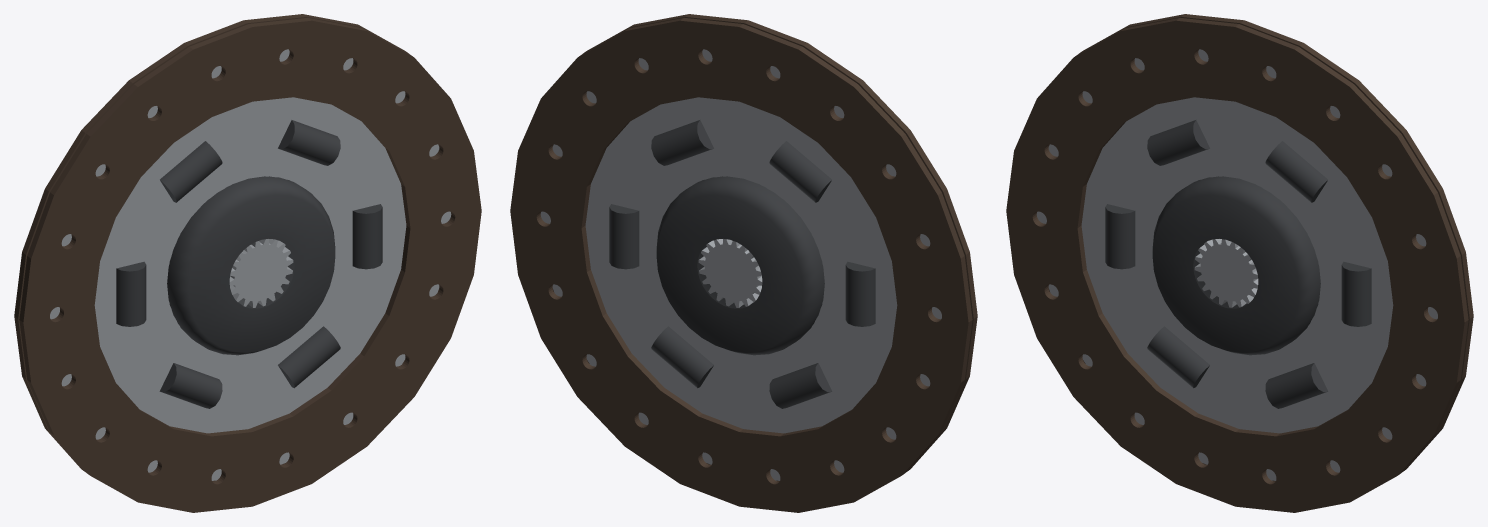
Rendered from clutch-disc.glb.
3 views of the same model, side by side, from view 1: azimuth 30°, elevation 25°; view 2: azimuth 150°, elevation 25°; view 3: azimuth 330°, elevation 25° (orthographic).
Visible parts, largest first — view 1: clutch-disc:friction, clutch-disc:steel, clutch-disc:darkSteel; view 2: clutch-disc:friction, clutch-disc:steel, clutch-disc:darkSteel; view 3: clutch-disc:friction, clutch-disc:steel, clutch-disc:darkSteel.
Boxes of the visible parts, box(x1,y1,x2,y2) form: clutch-disc:friction: box(14, 14, 481, 512); clutch-disc:steel: box(50, 49, 451, 480); clutch-disc:darkSteel: box(116, 120, 382, 408); clutch-disc:friction: box(510, 14, 977, 512); clutch-disc:steel: box(540, 49, 941, 480); clutch-disc:darkSteel: box(609, 120, 875, 408); clutch-disc:friction: box(1006, 14, 1473, 512); clutch-disc:steel: box(1036, 49, 1437, 480); clutch-disc:darkSteel: box(1105, 120, 1371, 408).
Bounding box in the file's own units: 225 × 225 × 24.
